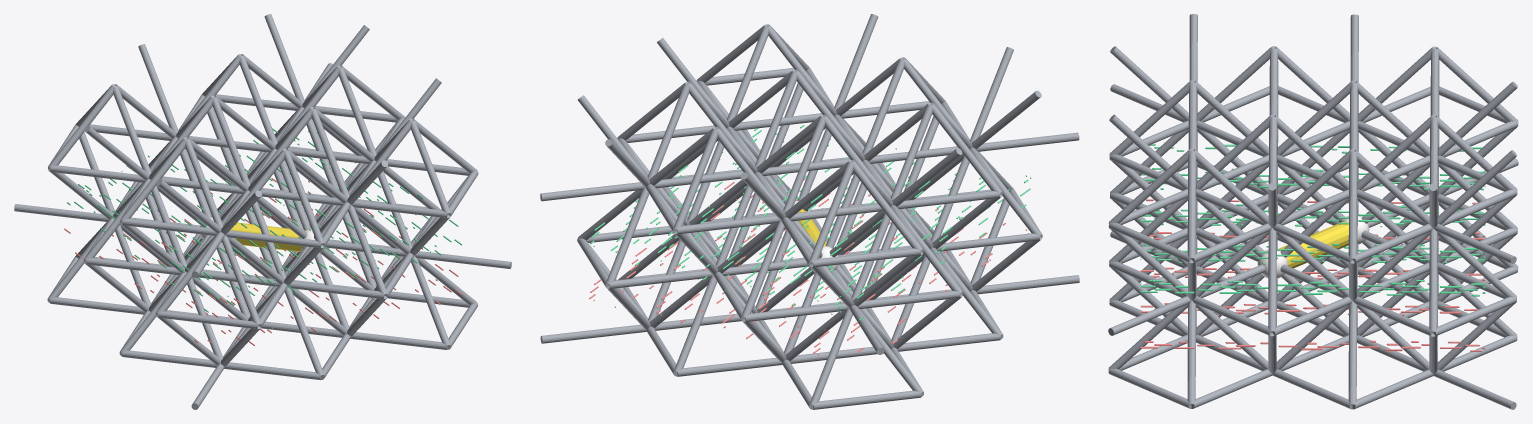
The model's file is inspection_model.glb.
3 views of the same model, side by side, from view 1: azimuth 30°, elevation 25°; view 2: azimuth 150°, elevation 25°; view 3: azimuth 270°, elevation 25° (orthographic). The views are drawn at different scales.
Visible parts, largest first — view 1: Renderer Node; view 2: Renderer Node; view 3: Renderer Node.
Part boxes in pixels (x1,y1,x2,y2): Renderer Node: (14, 14, 511, 409); Renderer Node: (540, 14, 1079, 409); Renderer Node: (1108, 14, 1518, 409).
Size of the model in its own units: 201 by 123 by 201.
